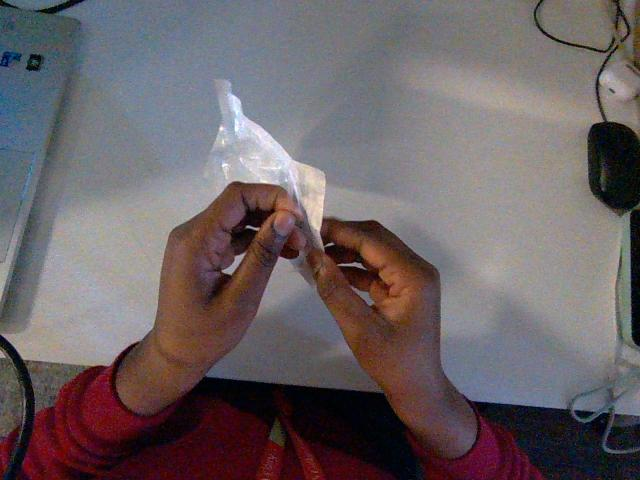gallipot: (206, 79, 325, 248)
